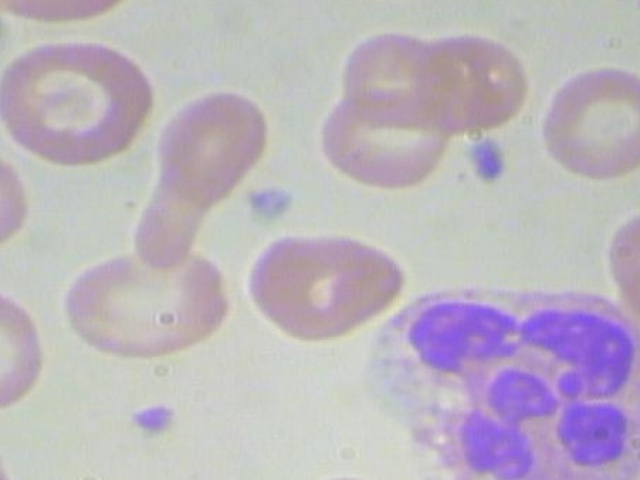Platelets: (234, 181, 297, 227), (467, 133, 516, 191), (122, 397, 185, 442)
RBC: (122, 85, 276, 271), (54, 237, 235, 367), (243, 222, 416, 354), (0, 38, 167, 169), (528, 58, 640, 189), (315, 83, 448, 191), (399, 29, 531, 136), (329, 19, 449, 113), (0, 283, 59, 417), (597, 203, 640, 303), (0, 132, 36, 250), (0, 0, 150, 28), (606, 243, 640, 365), (637, 0, 640, 35)
WBC: (335, 277, 640, 480)
